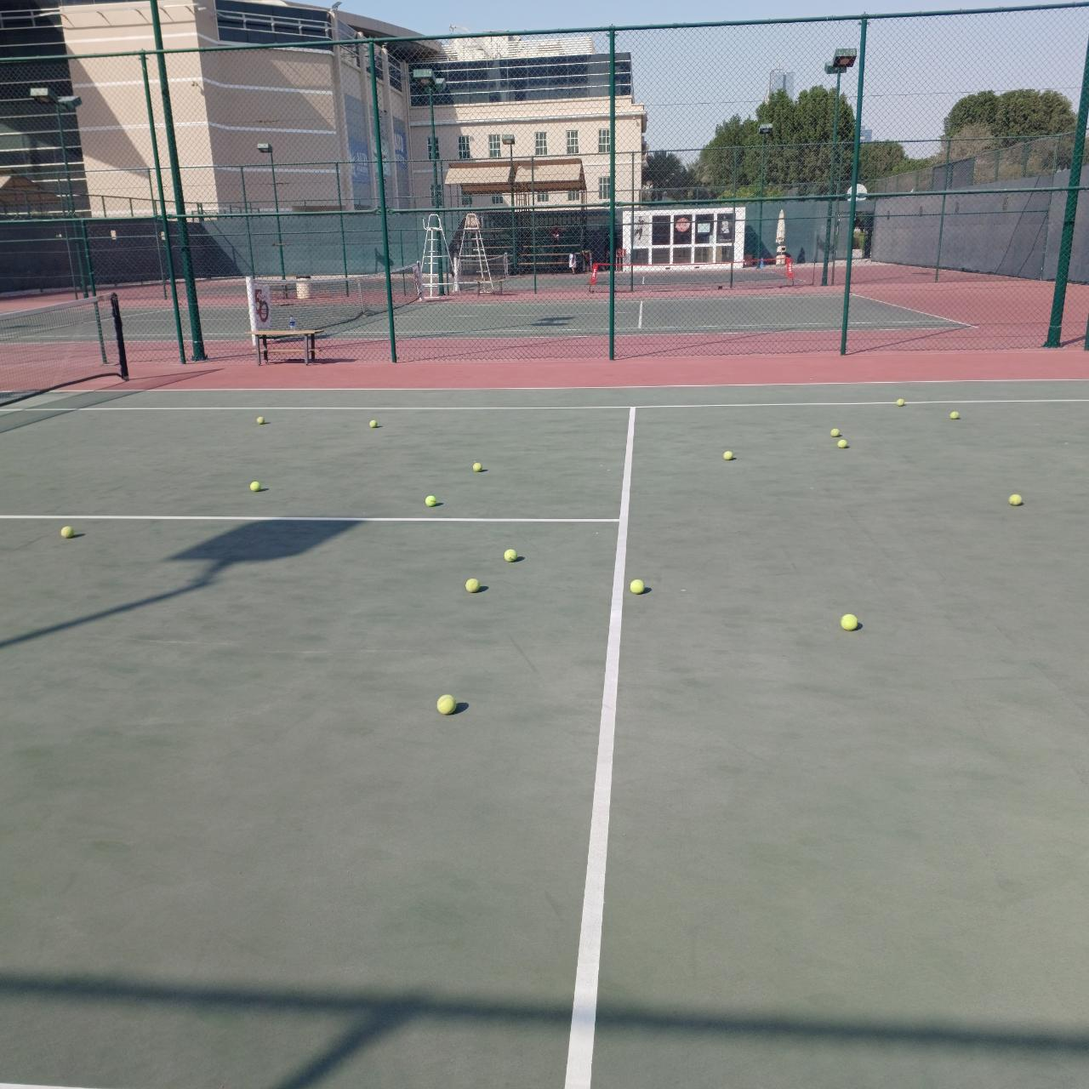tennis-ball: (436, 692, 457, 715), (840, 613, 860, 630), (629, 579, 645, 594), (465, 577, 480, 592), (503, 549, 517, 562), (61, 525, 74, 539), (1009, 493, 1022, 506), (425, 495, 436, 507), (250, 481, 261, 492), (723, 450, 733, 460), (837, 439, 847, 449), (473, 462, 482, 472), (830, 428, 840, 437), (369, 419, 378, 428), (257, 416, 265, 425), (896, 398, 905, 406), (950, 411, 959, 419)
